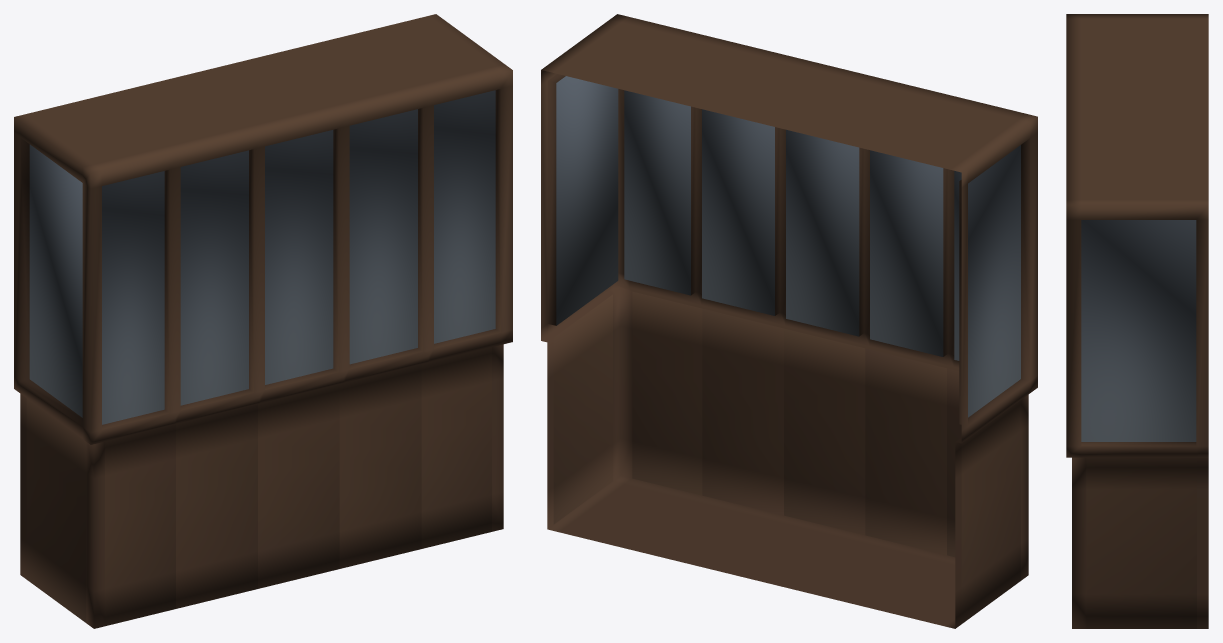
Rendered from The balcony is closed 5.fbx.
The picture shows the model from 3 angles, left to right: view 1: azimuth 30°, elevation 25°; view 2: azimuth 150°, elevation 25°; view 3: azimuth 270°, elevation 25°; orthographic projection. The views are drawn at different scales.
Parts seen in each view (by area): view 1: Cube.501; view 2: Cube.501; view 3: Cube.501.
Boxes of the visible parts, x1,y1,x2,y2 form: Cube.501: (14, 14, 512, 628); Cube.501: (541, 14, 1037, 628); Cube.501: (1066, 14, 1208, 628).
Bounding box in the file's own units: 702 × 730 × 221.
